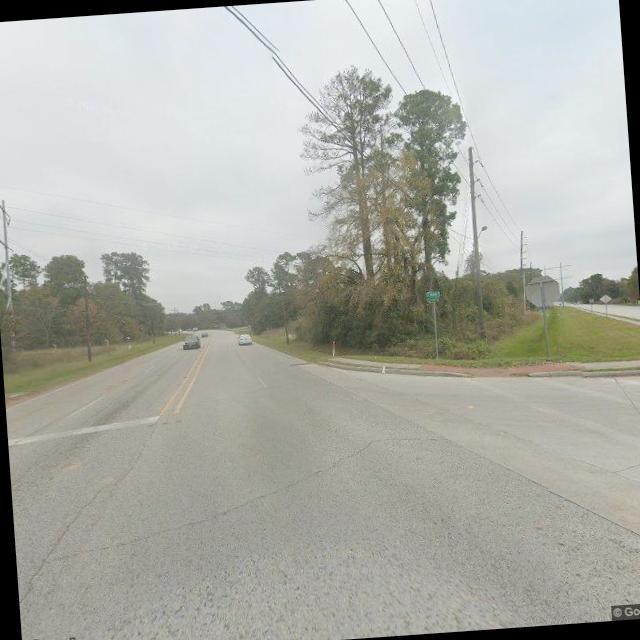crack: (26, 424, 456, 566), (8, 412, 174, 600)
